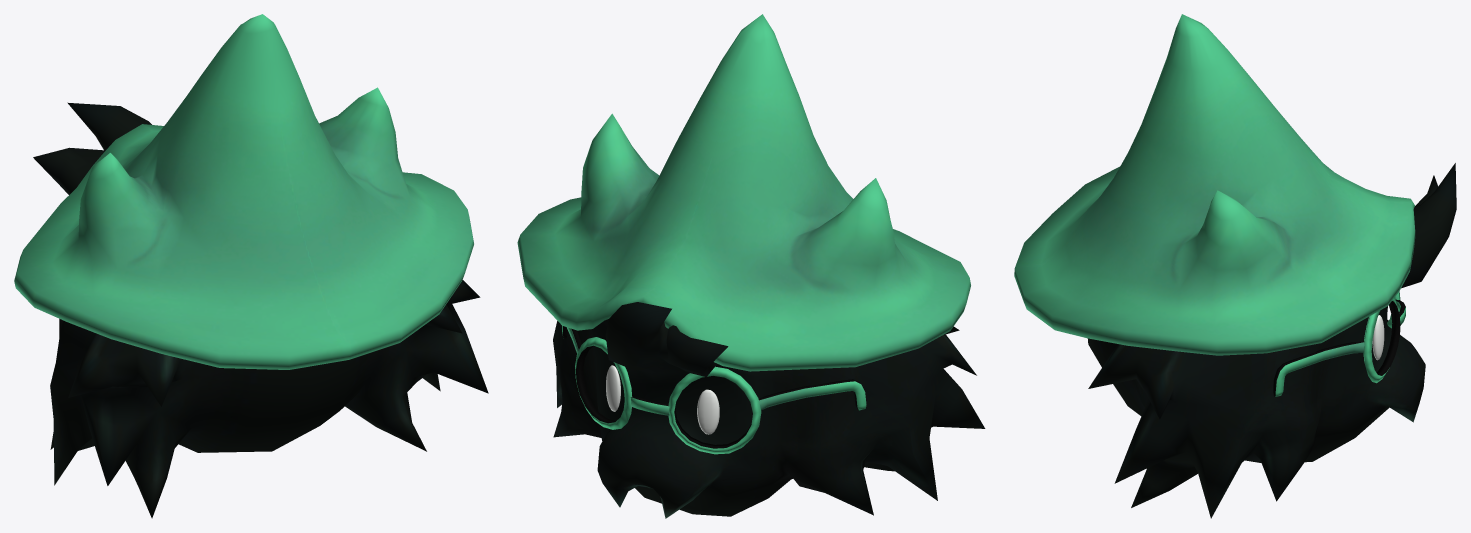
The model's file is ralsei.glb.
3 views of the same model, side by side, from view 1: azimuth 30°, elevation 25°; view 2: azimuth 150°, elevation 25°; view 3: azimuth 270°, elevation 25° (orthographic). The views are drawn at different scales.
Parts seen in each view (by area): view 1: ralsei_reference; view 2: ralsei_reference; view 3: ralsei_reference.
Boxes of the visible parts, x1=… form: ralsei_reference: x1=14, y1=14, x2=488, y2=518; ralsei_reference: x1=517, y1=14, x2=985, y2=518; ralsei_reference: x1=1014, y1=14, x2=1456, y2=518.
Size of the model in its own units: 2.93 by 3.01 by 2.79.
2 materials, 2 textured.
